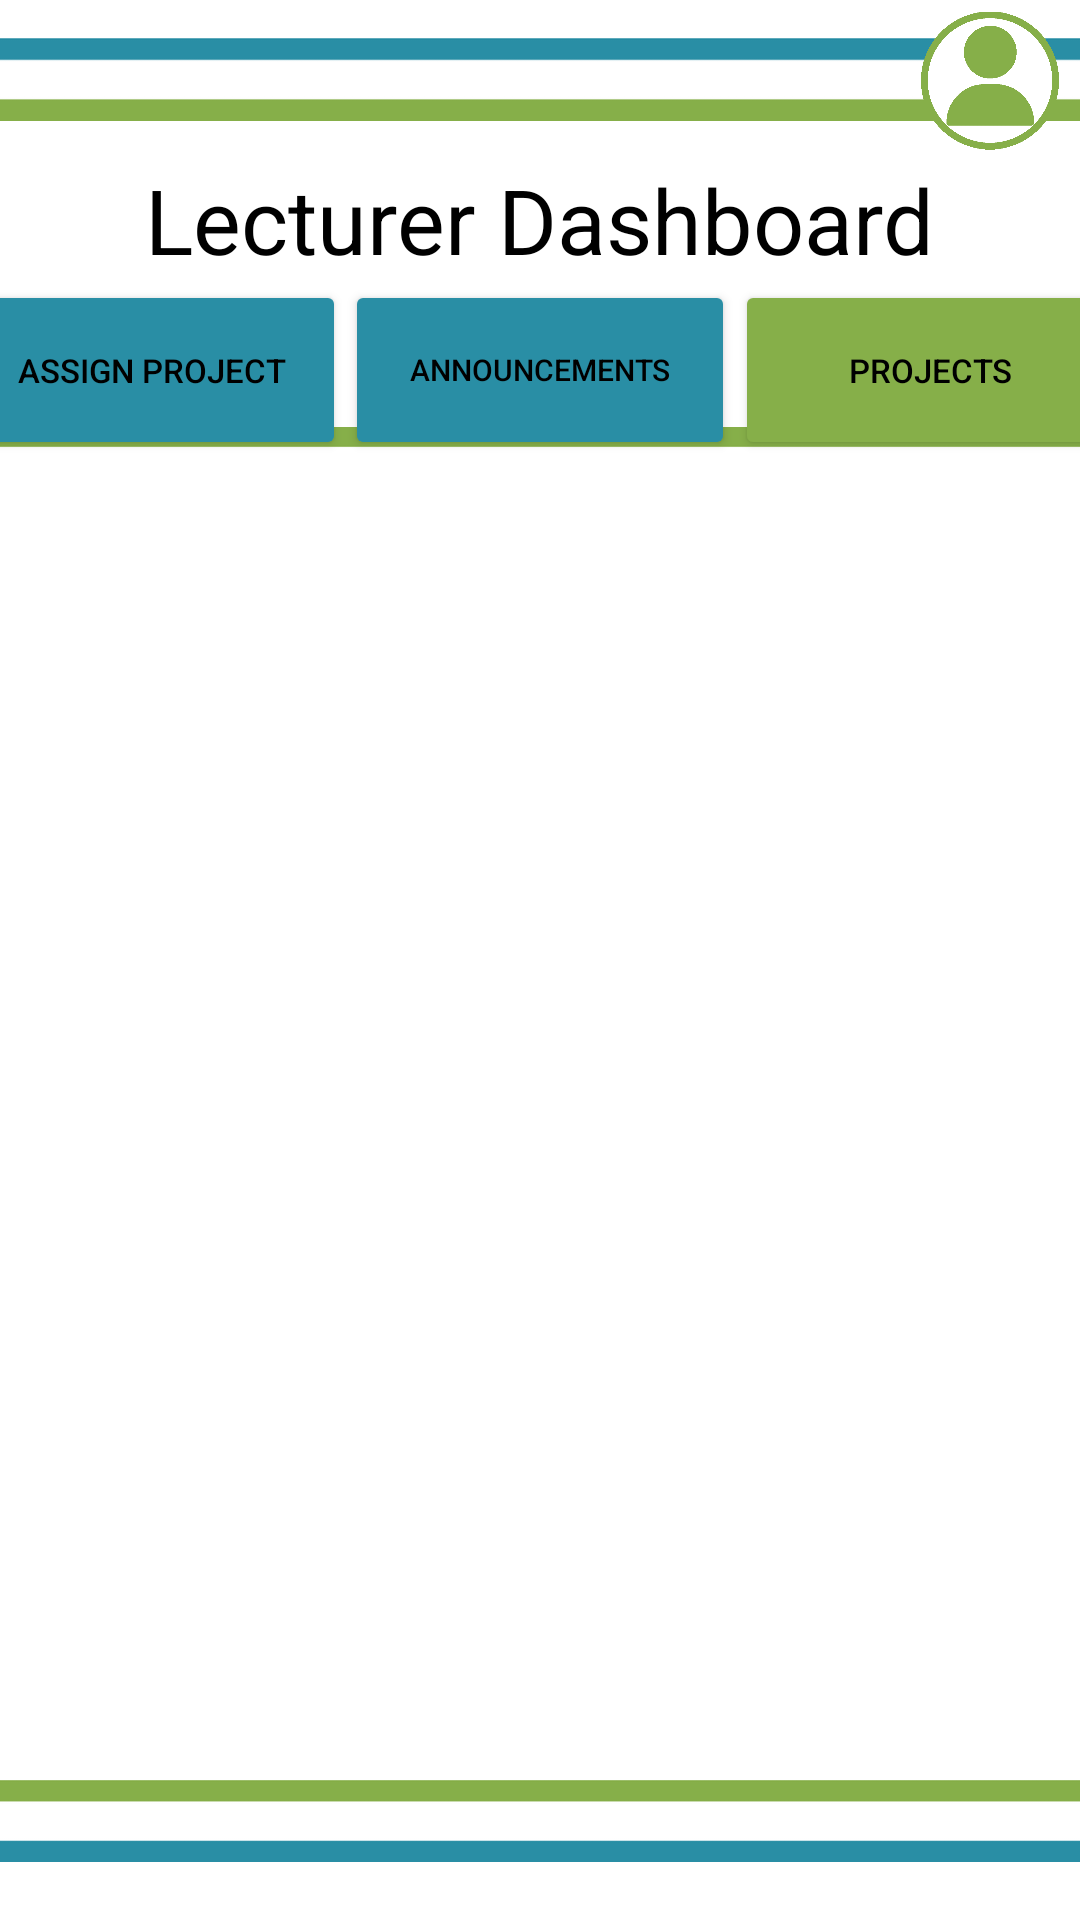

Where to tap for icons on this 1080 x 1920 app screen, as [x,y]:
user: [990,81]
